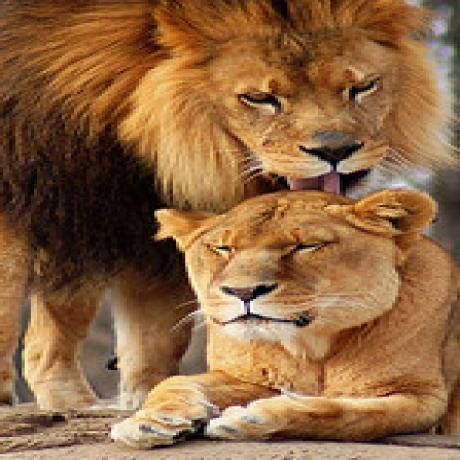Lion: (0, 0, 460, 207), (113, 188, 460, 446)
